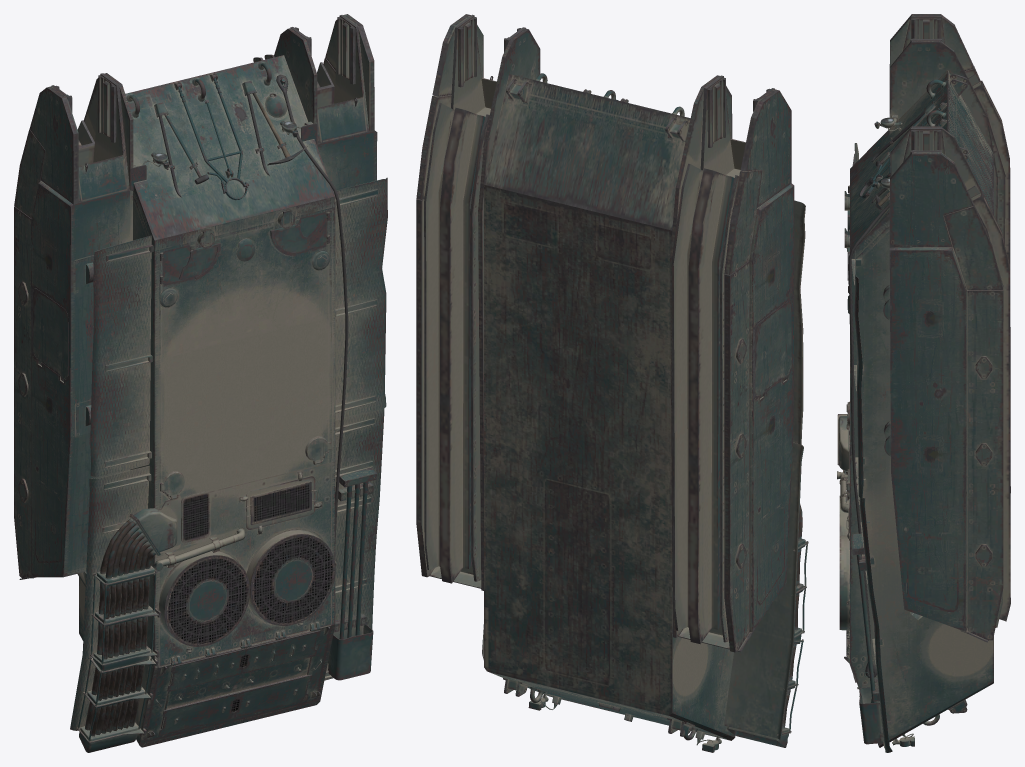
Rendered from Hull.glb.
The picture shows the model from 3 angles, left to right: view 1: azimuth 30°, elevation 25°; view 2: azimuth 150°, elevation 25°; view 3: azimuth 270°, elevation 25°; orthographic projection. The views are drawn at different scales.
Visible parts, largest first — view 1: set_0_group_0; view 2: set_0_group_0; view 3: set_0_group_0.
Boxes of the visible parts, x1,y1,x2,y2 form: set_0_group_0: (14,14,387,752); set_0_group_0: (416,14,808,752); set_0_group_0: (837,14,1010,752).
Bounding box in the file's own units: 3.4 × 6.91 × 1.75.
1 material, 1 textured.
